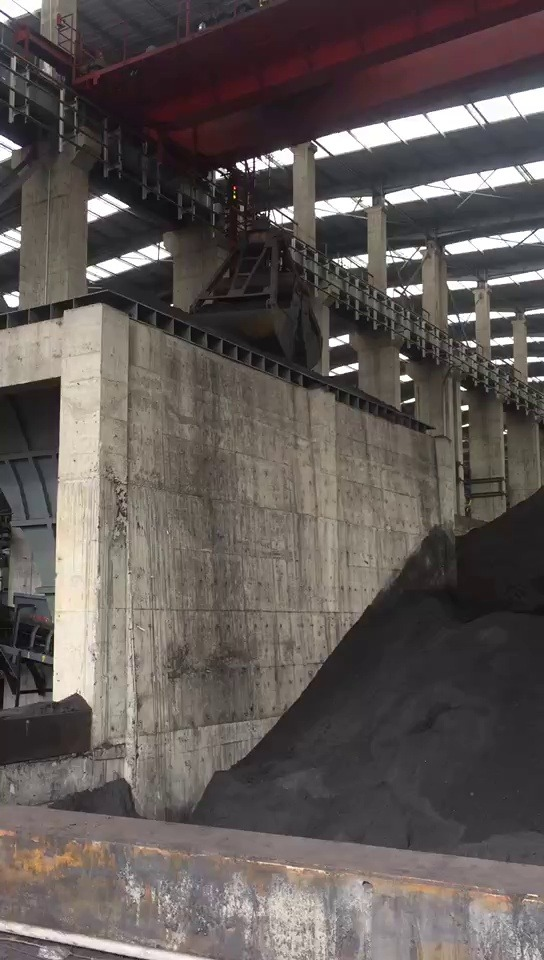grab: (156, 203, 334, 375)
